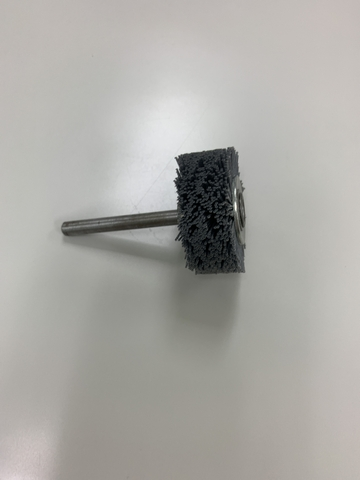Wheel Brush: (81, 122, 248, 286), (65, 144, 267, 278)
